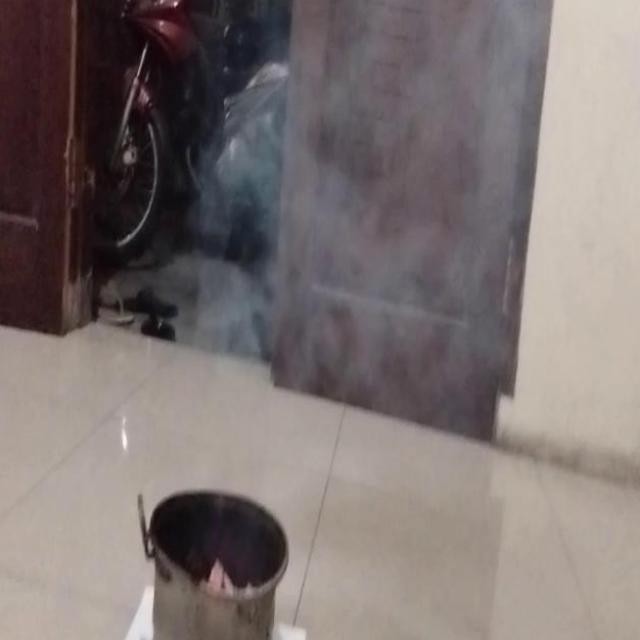fire: (227, 0, 530, 379)
